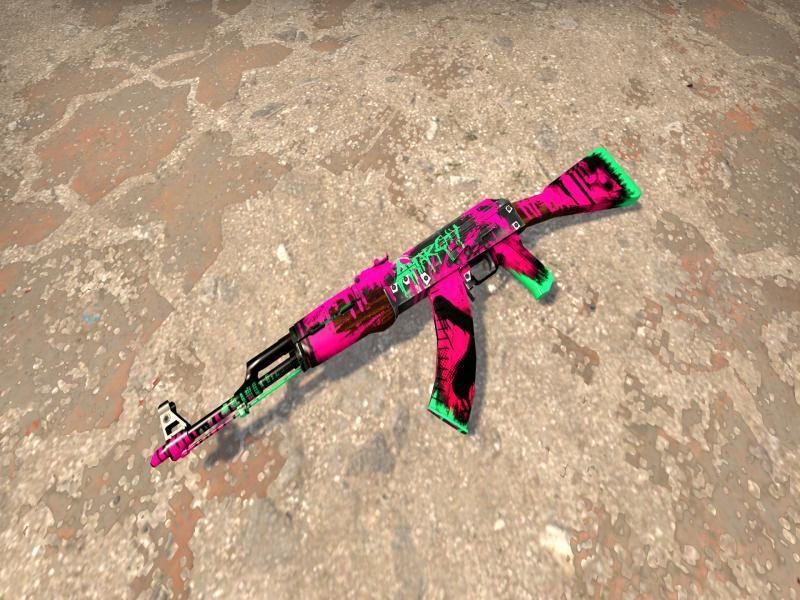AK47: (150, 148, 641, 466)
